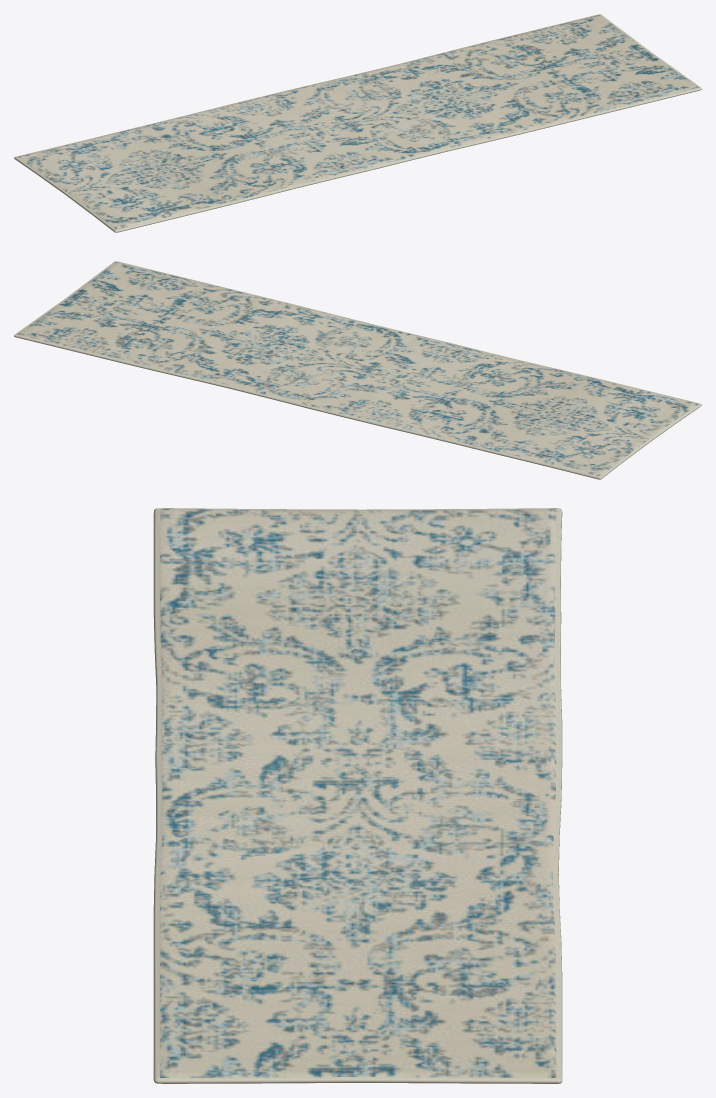
Rendered from B07QFB4Y45.glb.
3 renders of one model, top to bottom at view 1: azimuth 30°, elevation 25°; view 2: azimuth 150°, elevation 25°; view 3: azimuth 270°, elevation 25°, orthographic. The views are drawn at different scales.
Visible parts, largest first — view 1: RootNode; view 2: RootNode; view 3: RootNode.
Part boxes in pixels (x1=…): RootNode: x1=14, y1=14, x2=701, y2=232; RootNode: x1=14, y1=261, x2=701, y2=479; RootNode: x1=153, y1=508, x2=562, y2=1083.
Size of the model in its own units: 2.2 by 0.0105 by 0.6617.
Materials: 1 (1 with a texture image).
